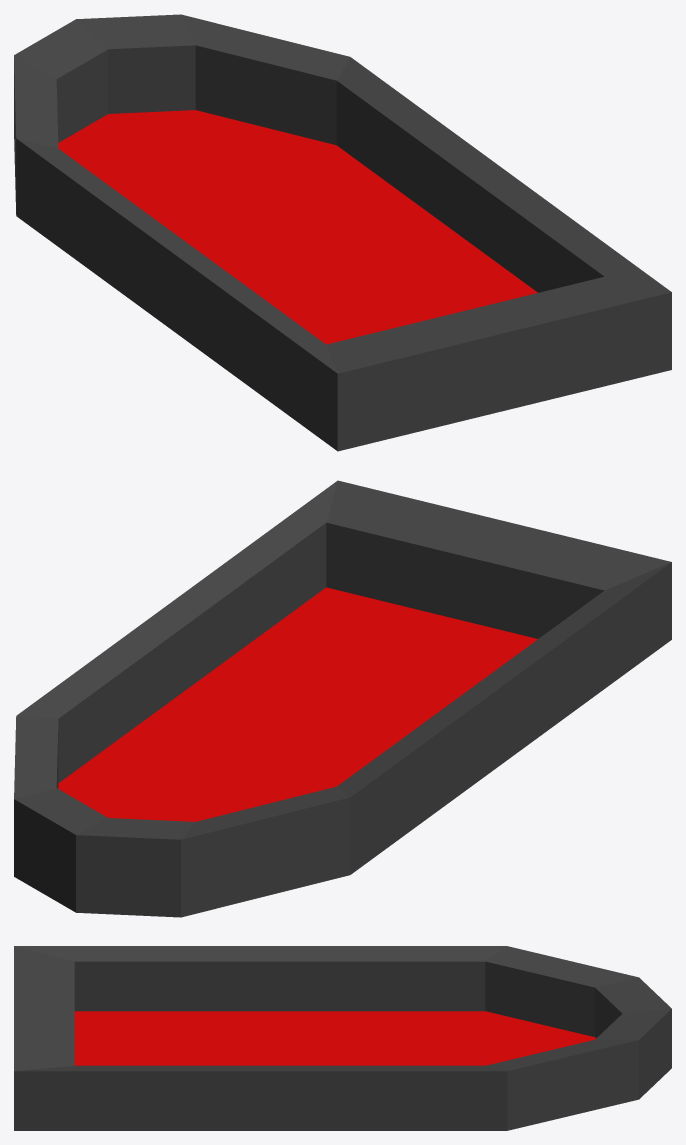
File: ChurchWindow.fbx
The picture shows the model from 3 angles, top to bottom: view 1: azimuth 30°, elevation 25°; view 2: azimuth 150°, elevation 25°; view 3: azimuth 270°, elevation 25°; orthographic projection. The views are drawn at different scales.
Visible parts, largest first — view 1: ChurchWindow; view 2: ChurchWindow; view 3: ChurchWindow.
Boxes of the visible parts, box(x1,y1,x2,y2) form: ChurchWindow: box(14, 14, 671, 451); ChurchWindow: box(14, 480, 671, 917); ChurchWindow: box(14, 946, 671, 1130).
Bounding box in the file's own units: 12984 × 2885 × 28853.
